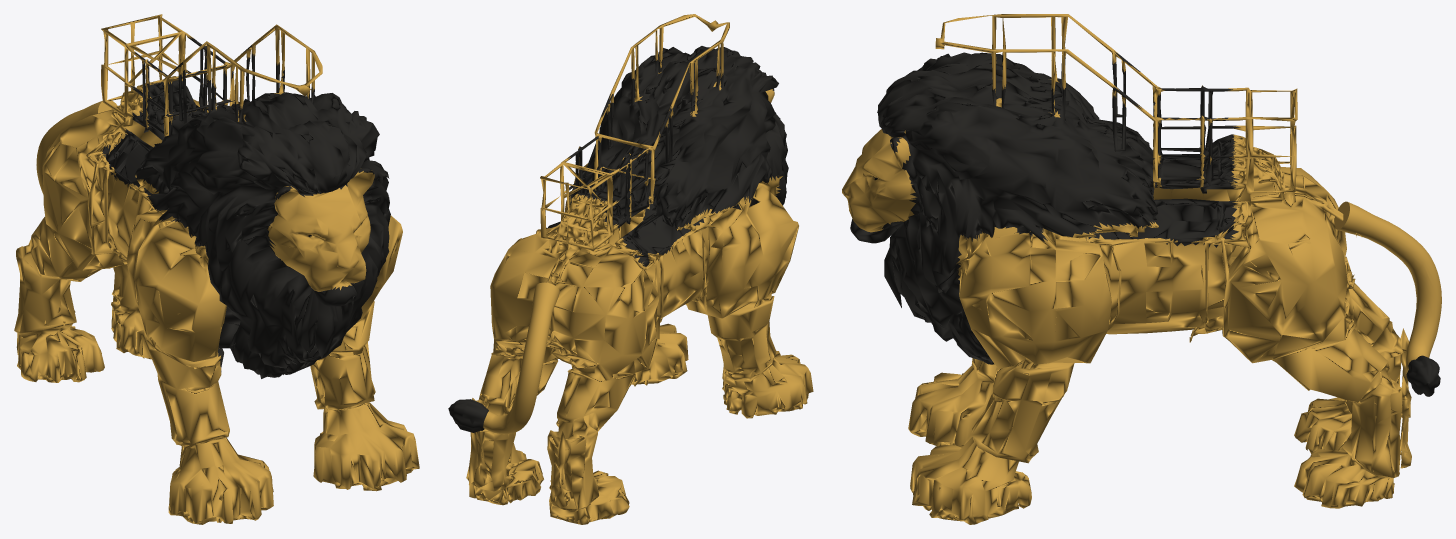
The model's file is gloria-lion-far-v1.glb.
The picture shows the model from 3 angles, left to right: view 1: azimuth 30°, elevation 25°; view 2: azimuth 150°, elevation 25°; view 3: azimuth 270°, elevation 25°; orthographic projection. The views are drawn at different scales.
Parts seen in each view (by area): view 1: world, Reference 005 estimated curved gold tail; view 2: world, Reference 005 estimated curved gold tail, Reference 005 estimated grooved dark tuft; view 3: world, Reference 005 estimated curved gold tail, Reference 005 estimated grooved dark tuft.
Boxes of the visible parts, left/top/right/bottom form: world: left=14, top=14, right=419, bottom=524; Reference 005 estimated curved gold tail: left=36, top=100, right=117, bottom=193; world: left=466, top=14, right=813, bottom=524; Reference 005 estimated curved gold tail: left=483, top=282, right=559, bottom=434; Reference 005 estimated grooved dark tuft: left=448, top=399, right=488, bottom=432; world: left=842, top=14, right=1411, bottom=524; Reference 005 estimated curved gold tail: left=1334, top=201, right=1441, bottom=372; Reference 005 estimated grooved dark tuft: left=1406, top=355, right=1440, bottom=396.
Size of the model in its own units: 0.5129 by 0.837 by 1.05.
